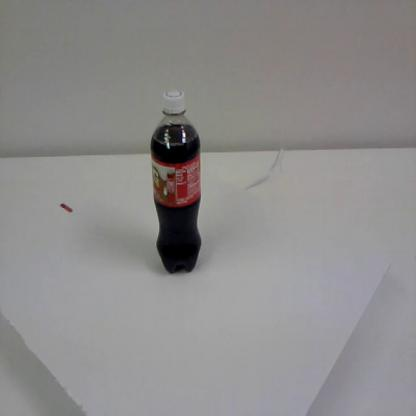bottle: (147, 88, 204, 276)
